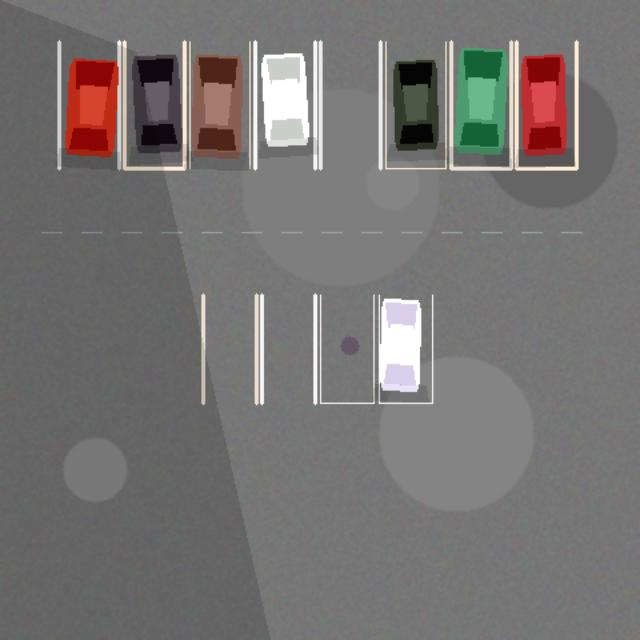space-empty: (320, 41, 380, 168), (261, 295, 315, 403), (203, 295, 256, 403), (320, 295, 373, 403)
space-occupied: (59, 41, 119, 168), (124, 41, 184, 168), (189, 41, 249, 168), (255, 41, 315, 168), (385, 41, 445, 168), (451, 41, 511, 168), (516, 41, 576, 168), (379, 295, 432, 403)
